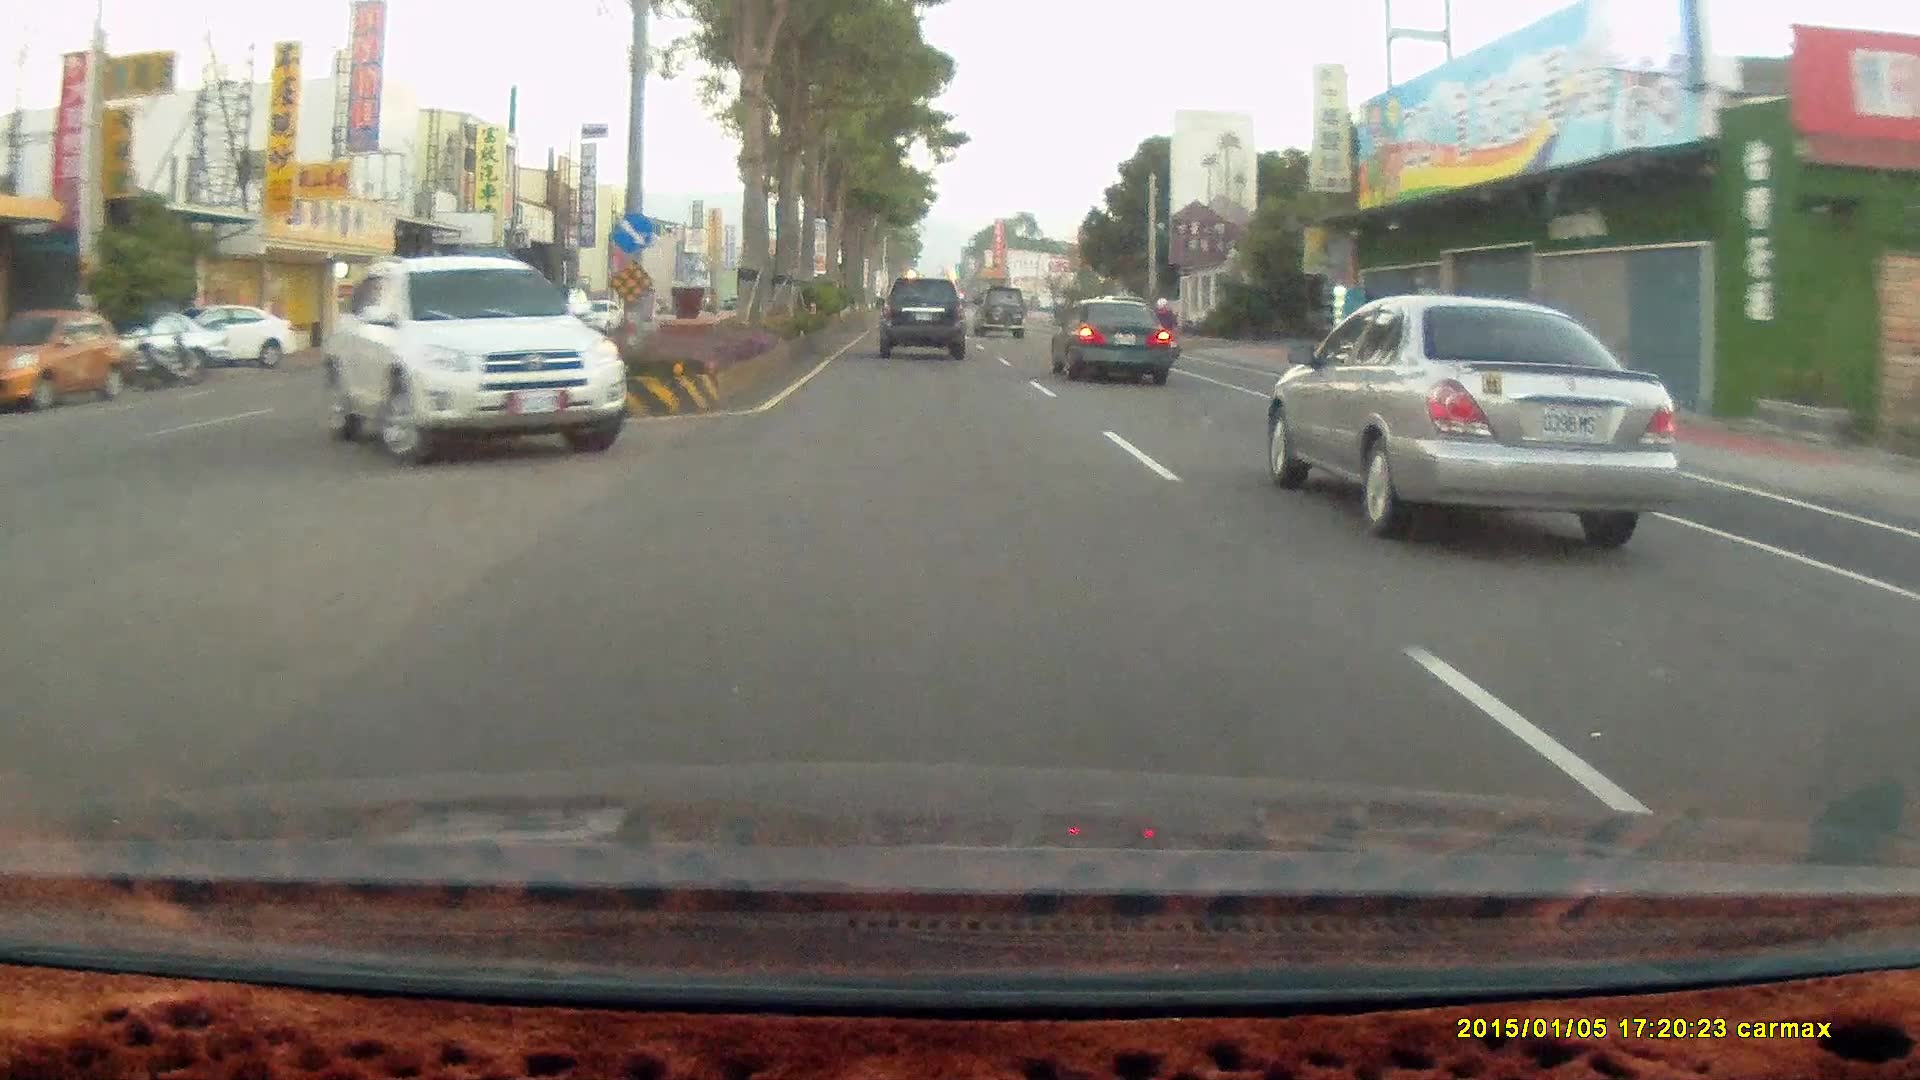rider: (1143, 294, 1182, 372)
vehicle: (1271, 287, 1685, 537), (318, 253, 627, 467), (329, 252, 618, 476), (0, 307, 133, 410), (1, 311, 136, 411), (1048, 293, 1171, 383), (1055, 297, 1178, 384), (156, 302, 305, 370), (149, 300, 298, 368), (882, 277, 970, 362), (877, 275, 964, 355), (973, 284, 1030, 343), (972, 283, 1027, 337)
